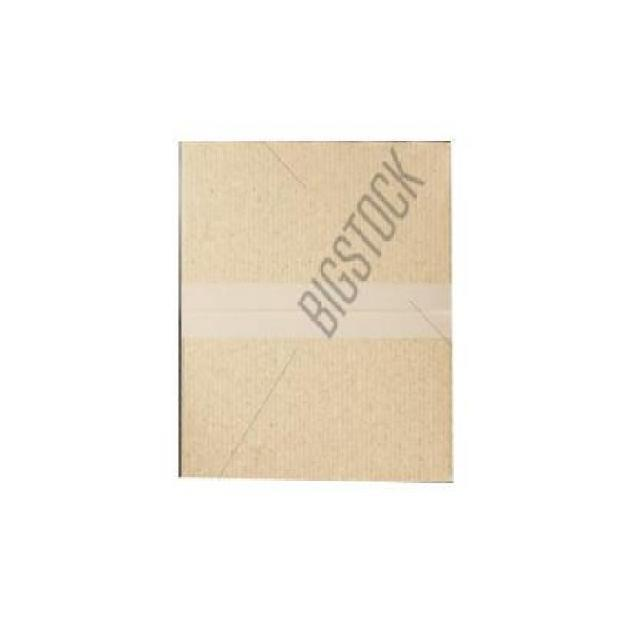box: (178, 145, 450, 479)
